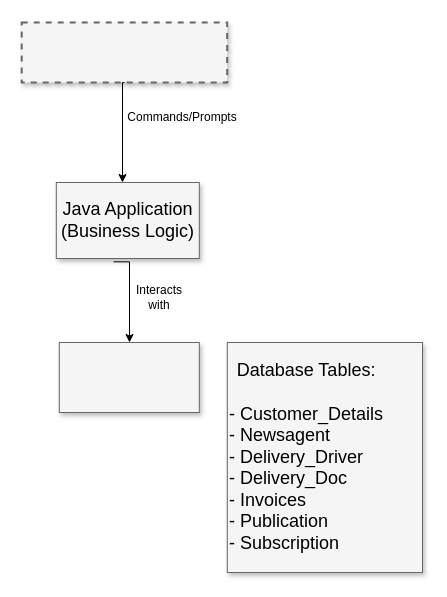
The diagram is 447 pixels wide and 597 high, and some of its shapes have lost their labels. The shapes that lost their labels are listed below. From the top down, each one's centre as x and y in pixels, then its label:
the point at 125,53: Newsagent App (command-line UI)
the point at 129,379: MySQL Database (Data Storage)
